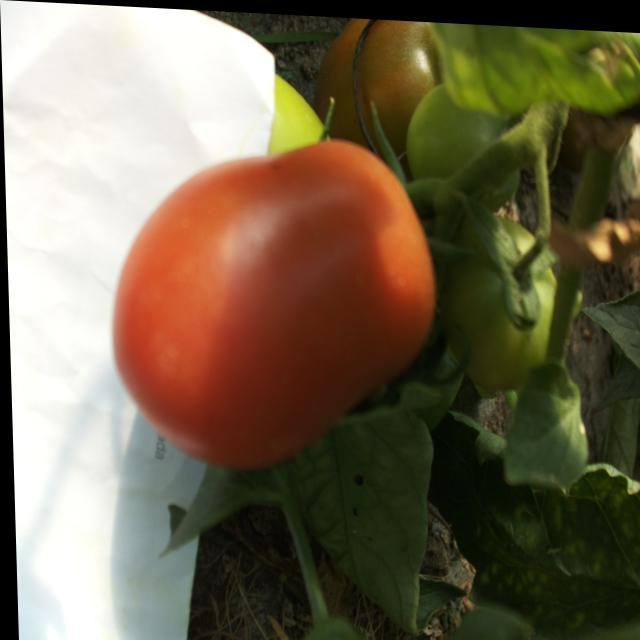kirmizi: (80, 96, 443, 487)
